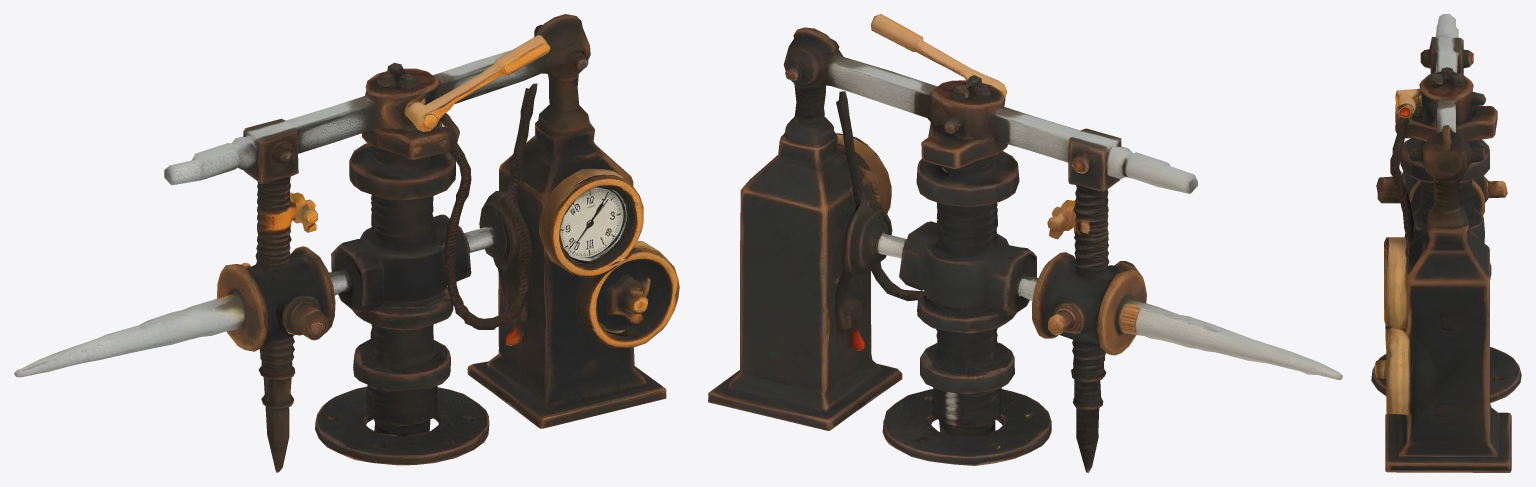
The model's file is eardrill.glb.
The picture shows the model from 3 angles, left to right: view 1: azimuth 30°, elevation 25°; view 2: azimuth 150°, elevation 25°; view 3: azimuth 270°, elevation 25°; orthographic projection. The views are drawn at different scales.
Visible parts, largest first — view 1: mesh_node; view 2: mesh_node; view 3: mesh_node.
Part boxes in pixels (x1,y1,x2,y2): mesh_node: [14, 14, 679, 472]; mesh_node: [708, 14, 1342, 472]; mesh_node: [1371, 14, 1521, 472].
Size of the model in its own units: 1.91 by 1.14 by 0.4658.
Materials: 1 (1 with a texture image).
